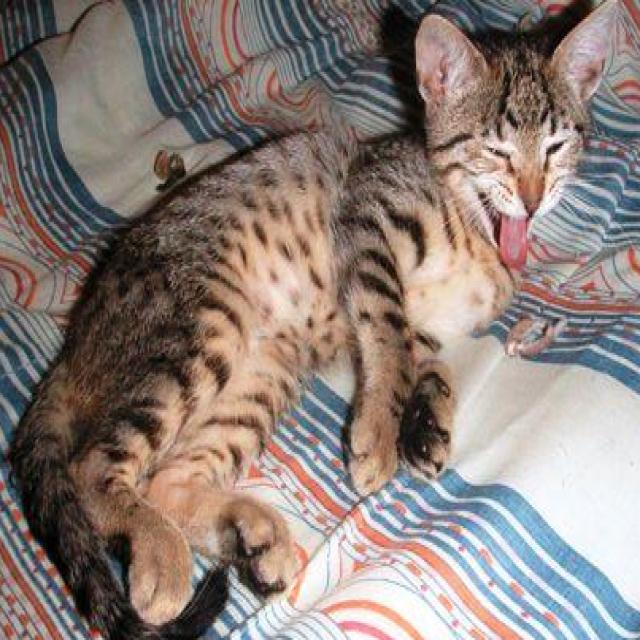Egyptian Mau: (11, 0, 619, 640)
